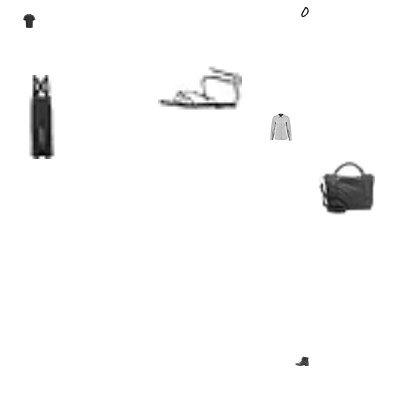0: (298, 5, 312, 19)
Ankle_boot: (295, 354, 309, 368)
Bag: (319, 160, 375, 216)
Sandal: (158, 46, 242, 130)
Shirt: (267, 113, 295, 141)
T-shirt/top: (22, 14, 36, 28)
Trouser: (0, 75, 84, 159)
